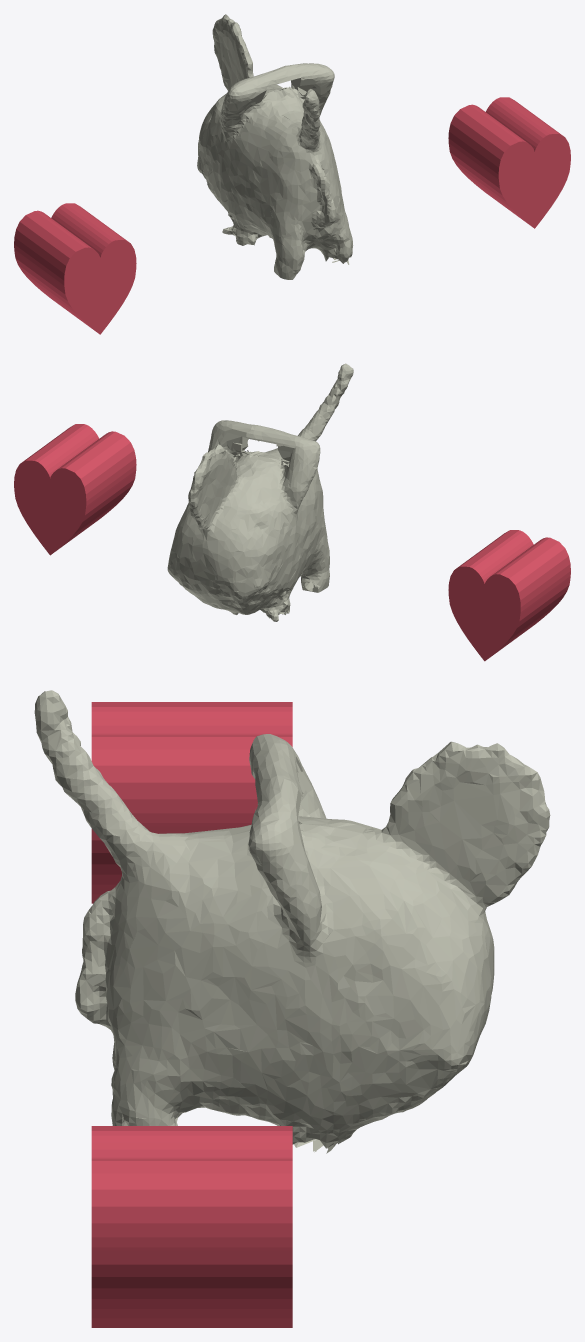
File: allispoly.glb
3 views of the same model, one above another, from view 1: azimuth 30°, elevation 25°; view 2: azimuth 150°, elevation 25°; view 3: azimuth 270°, elevation 25° (orthographic). The views are drawn at different scales.
Parts seen in each view (by area): view 1: Mesh_Mesh_head_geo.001_lambert2SG.001; view 2: Mesh_Mesh_head_geo.001_lambert2SG.001; view 3: Mesh_Mesh_head_geo.001_lambert2SG.001.
Boxes of the visible parts, x1,y1,x2,y2 form: Mesh_Mesh_head_geo.001_lambert2SG.001: [14, 14, 570, 334]; Mesh_Mesh_head_geo.001_lambert2SG.001: [14, 363, 570, 661]; Mesh_Mesh_head_geo.001_lambert2SG.001: [34, 690, 550, 1327].
Size of the model in its own units: 29.16 by 11.25 by 12.85.
